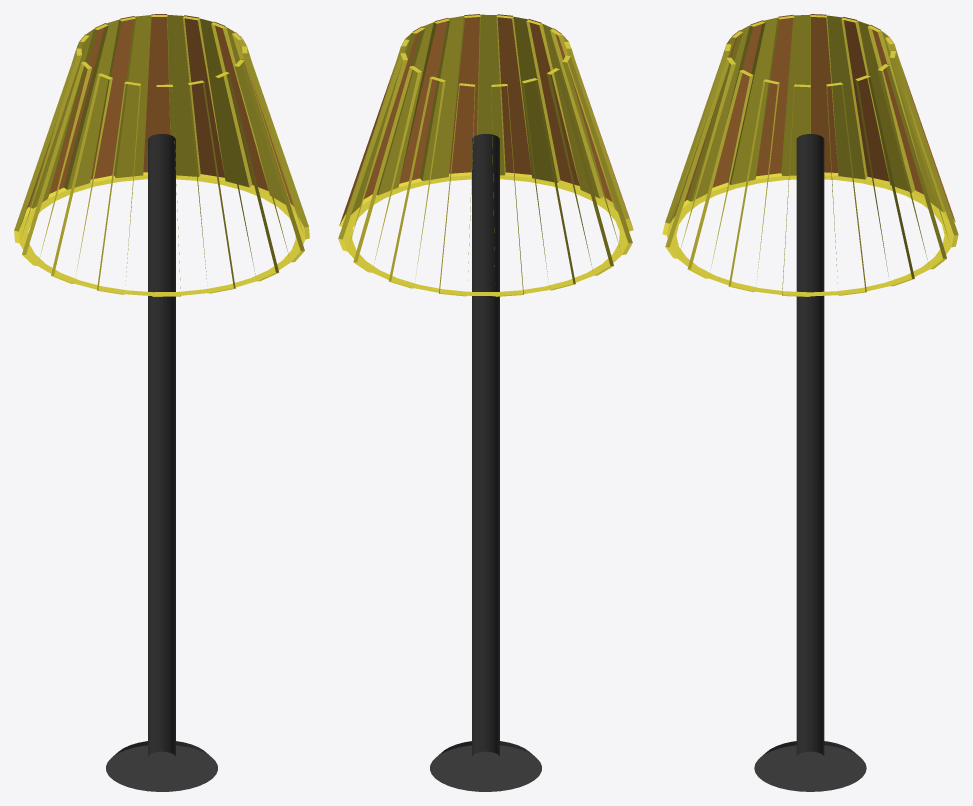
File: Simple Standing Lamp.glb
The picture shows the model from 3 angles, left to right: view 1: azimuth 30°, elevation 25°; view 2: azimuth 150°, elevation 25°; view 3: azimuth 270°, elevation 25°; orthographic projection.
Visible parts, largest first — view 1: simpleStandingLamp; view 2: simpleStandingLamp; view 3: simpleStandingLamp.
Boxes of the visible parts, box(x1,y1,x2,y2) form: simpleStandingLamp: box(14, 14, 309, 791); simpleStandingLamp: box(338, 14, 633, 791); simpleStandingLamp: box(662, 14, 958, 791).
Bounding box in the file's own units: 0.5897 × 1.58 × 0.5897.
